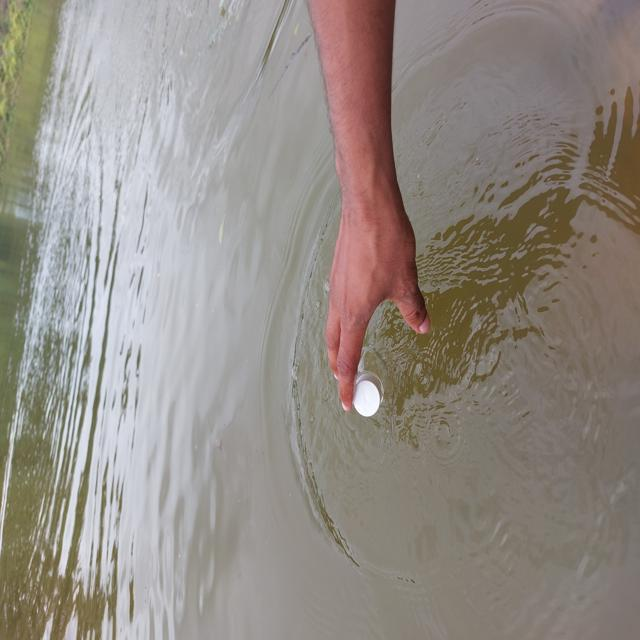waterbottle: (348, 373, 411, 425)
